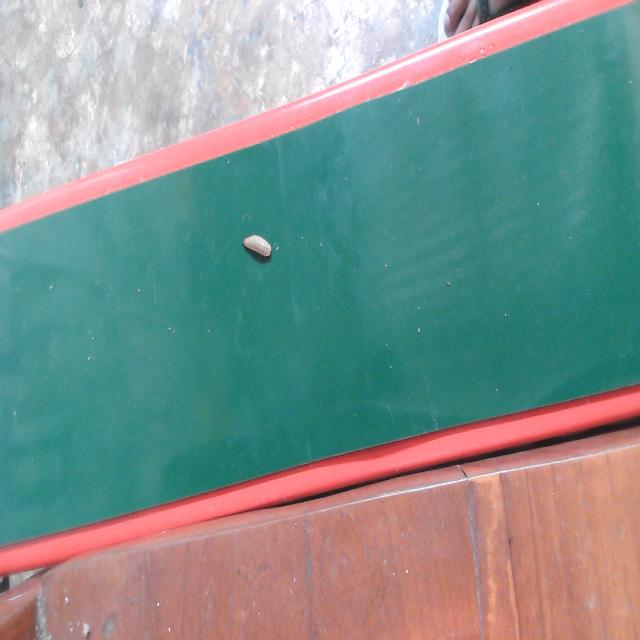Maggot: (241, 233, 275, 264)
